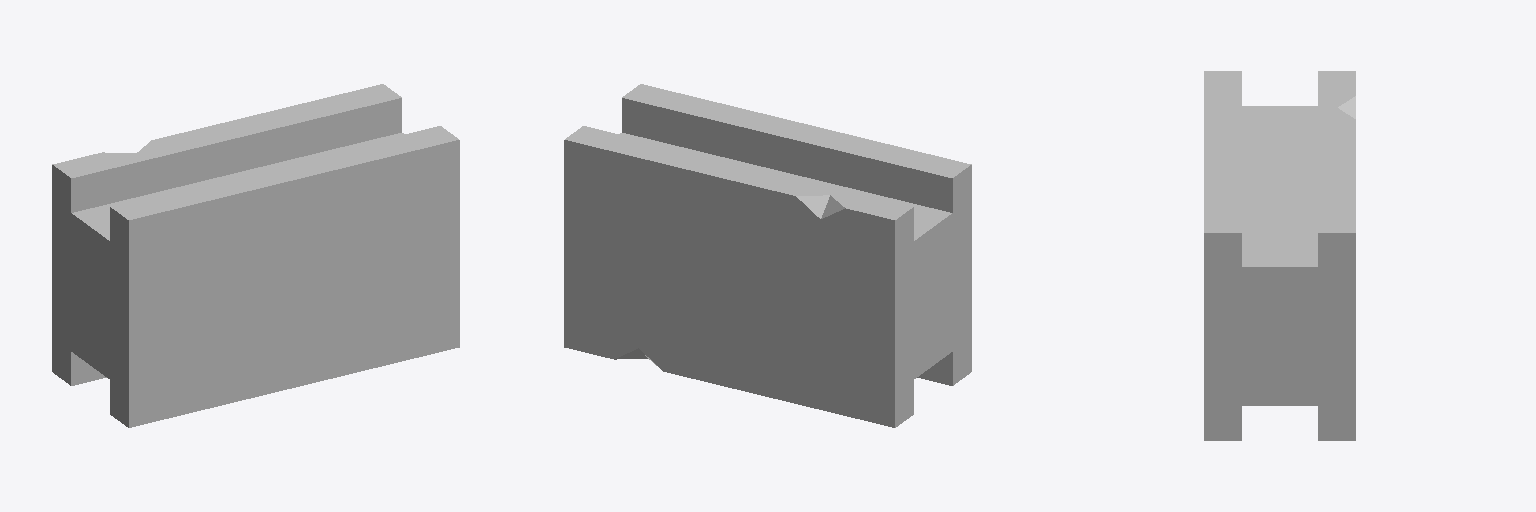
File: border-straight.obj
The picture shows the model from 3 angles: view 1: azimuth 30°, elevation 25°; view 2: azimuth 150°, elevation 25°; view 3: azimuth 270°, elevation 25°; orthographic projection.
Parts seen in each view (by area): view 1: border-straight; view 2: border-straight; view 3: border-straight.
Part boxes in pixels (x1,y1,x2,y2): border-straight: (52,84,459,427); border-straight: (564,84,971,427); border-straight: (1204,71,1355,440).
Bounding box in the file's own units: 1 × 0.6 × 0.4.